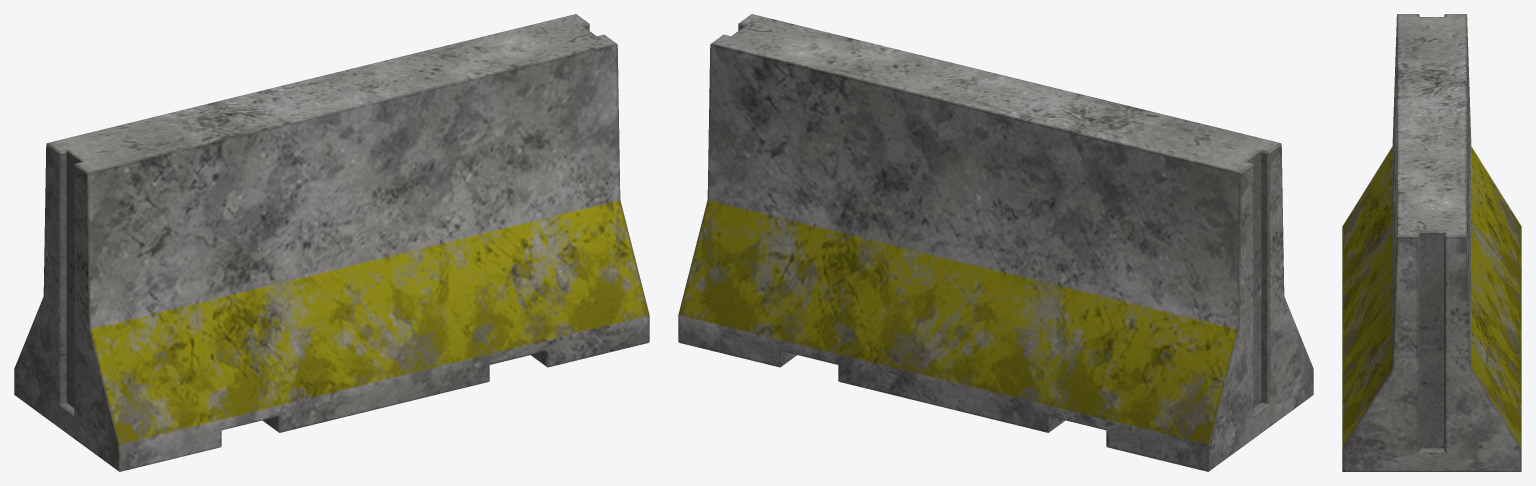
File: Concrete.fbx
3 renders of one model, left to right at view 1: azimuth 30°, elevation 25°; view 2: azimuth 150°, elevation 25°; view 3: azimuth 270°, elevation 25°, orthographic. The views are drawn at different scales.
Parts seen in each view (by area): view 1: RoadBlock; view 2: RoadBlock; view 3: RoadBlock.
Part boxes in pixels (x1,y1,x2,y2): RoadBlock: (14, 14, 649, 471); RoadBlock: (678, 14, 1313, 471); RoadBlock: (1342, 14, 1521, 471).
Size of the model in its own units: 469 by 233 by 160.
